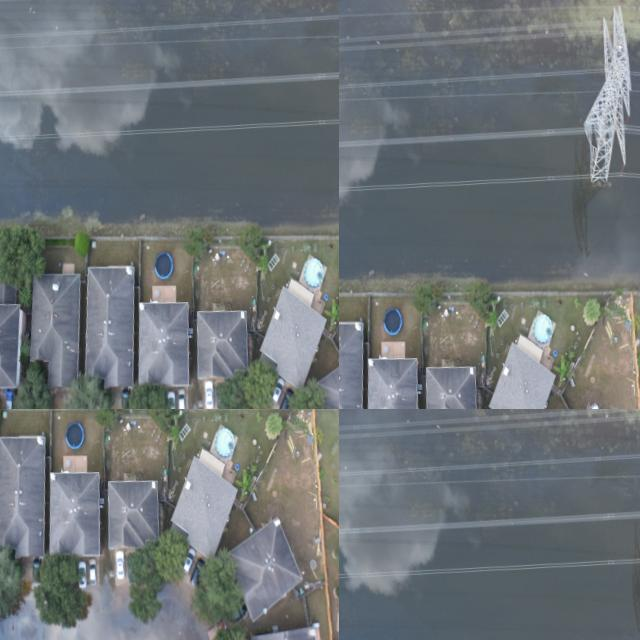fire: (339, 409, 640, 640)
